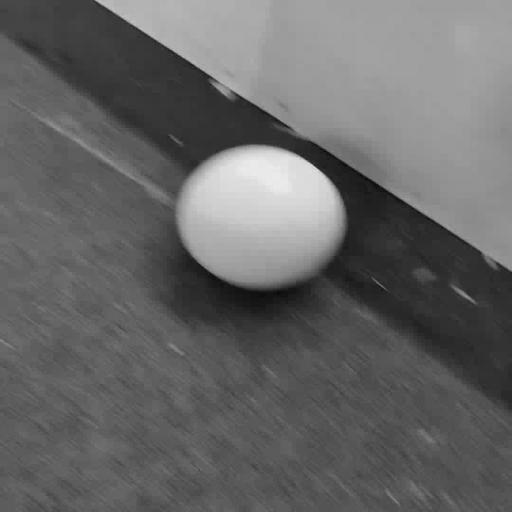fuel: (176, 146, 347, 290)
